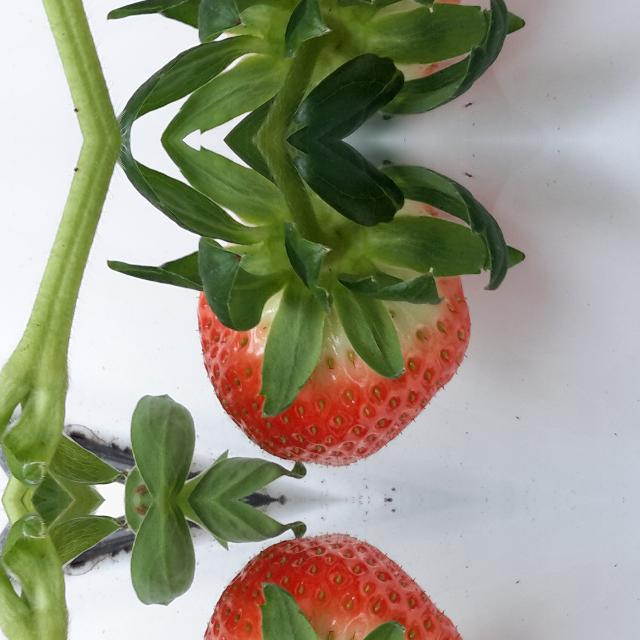Health_100: (196, 204, 472, 468), (196, 532, 471, 640), (196, 0, 471, 76)
